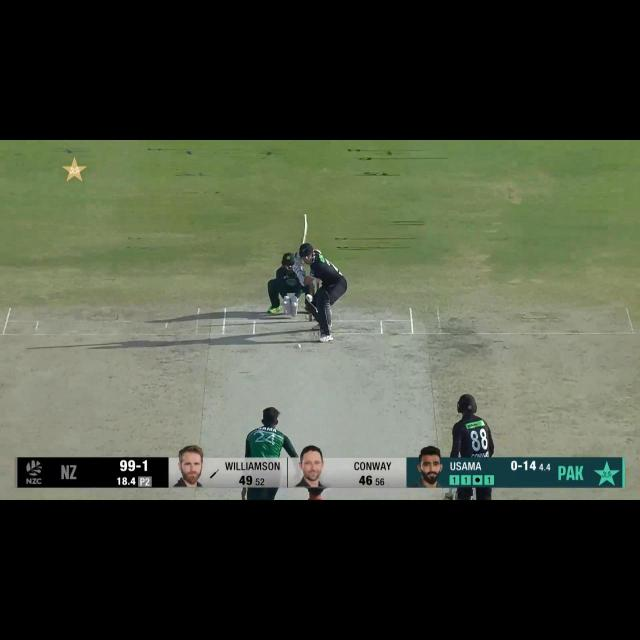bat: (299, 210, 313, 244), (440, 489, 456, 501)
toe: (302, 212, 313, 229)
